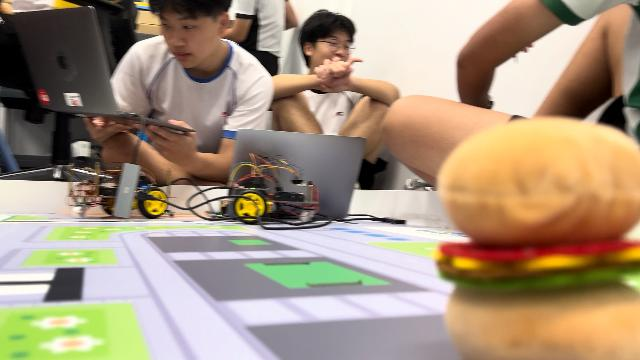burger: (432, 114, 640, 358)
